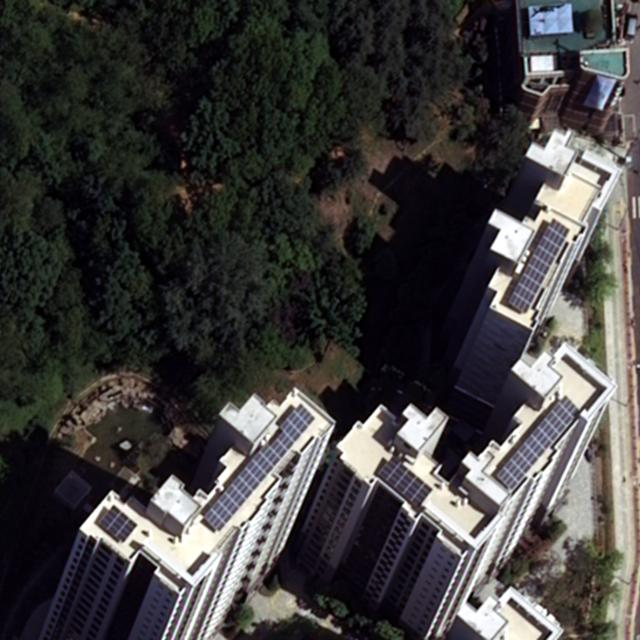panel: (201, 404, 318, 533), (493, 395, 582, 490), (507, 217, 571, 315), (375, 453, 434, 512), (97, 503, 138, 546)
